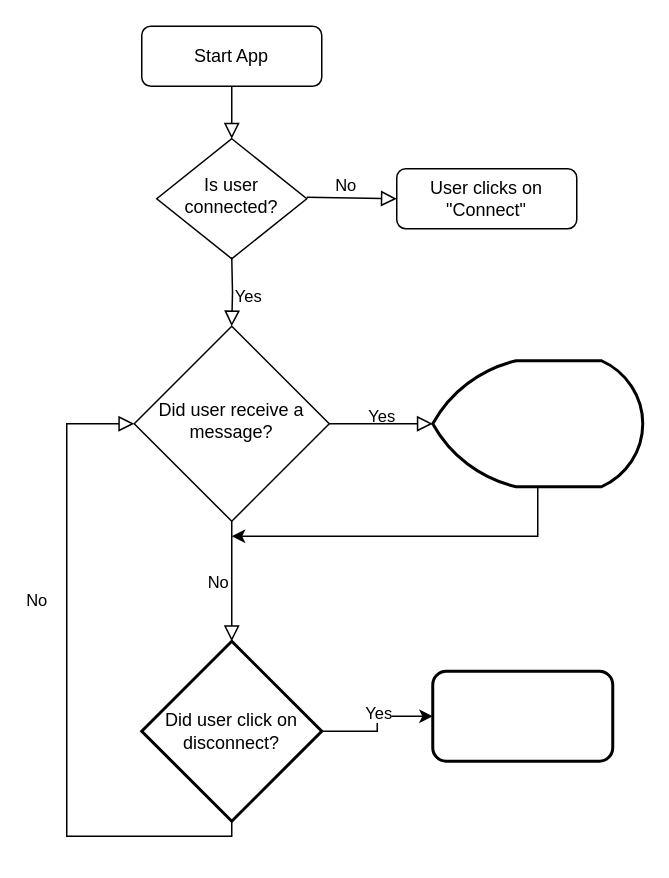
This 669x878 diagram has some shape labels left out. The centre of each missing label's shape, as x and y in pixels:
"Close TCP Connection" belongs at (522,715).
"Show message in the conversation Pane" belongs at (537,423).
